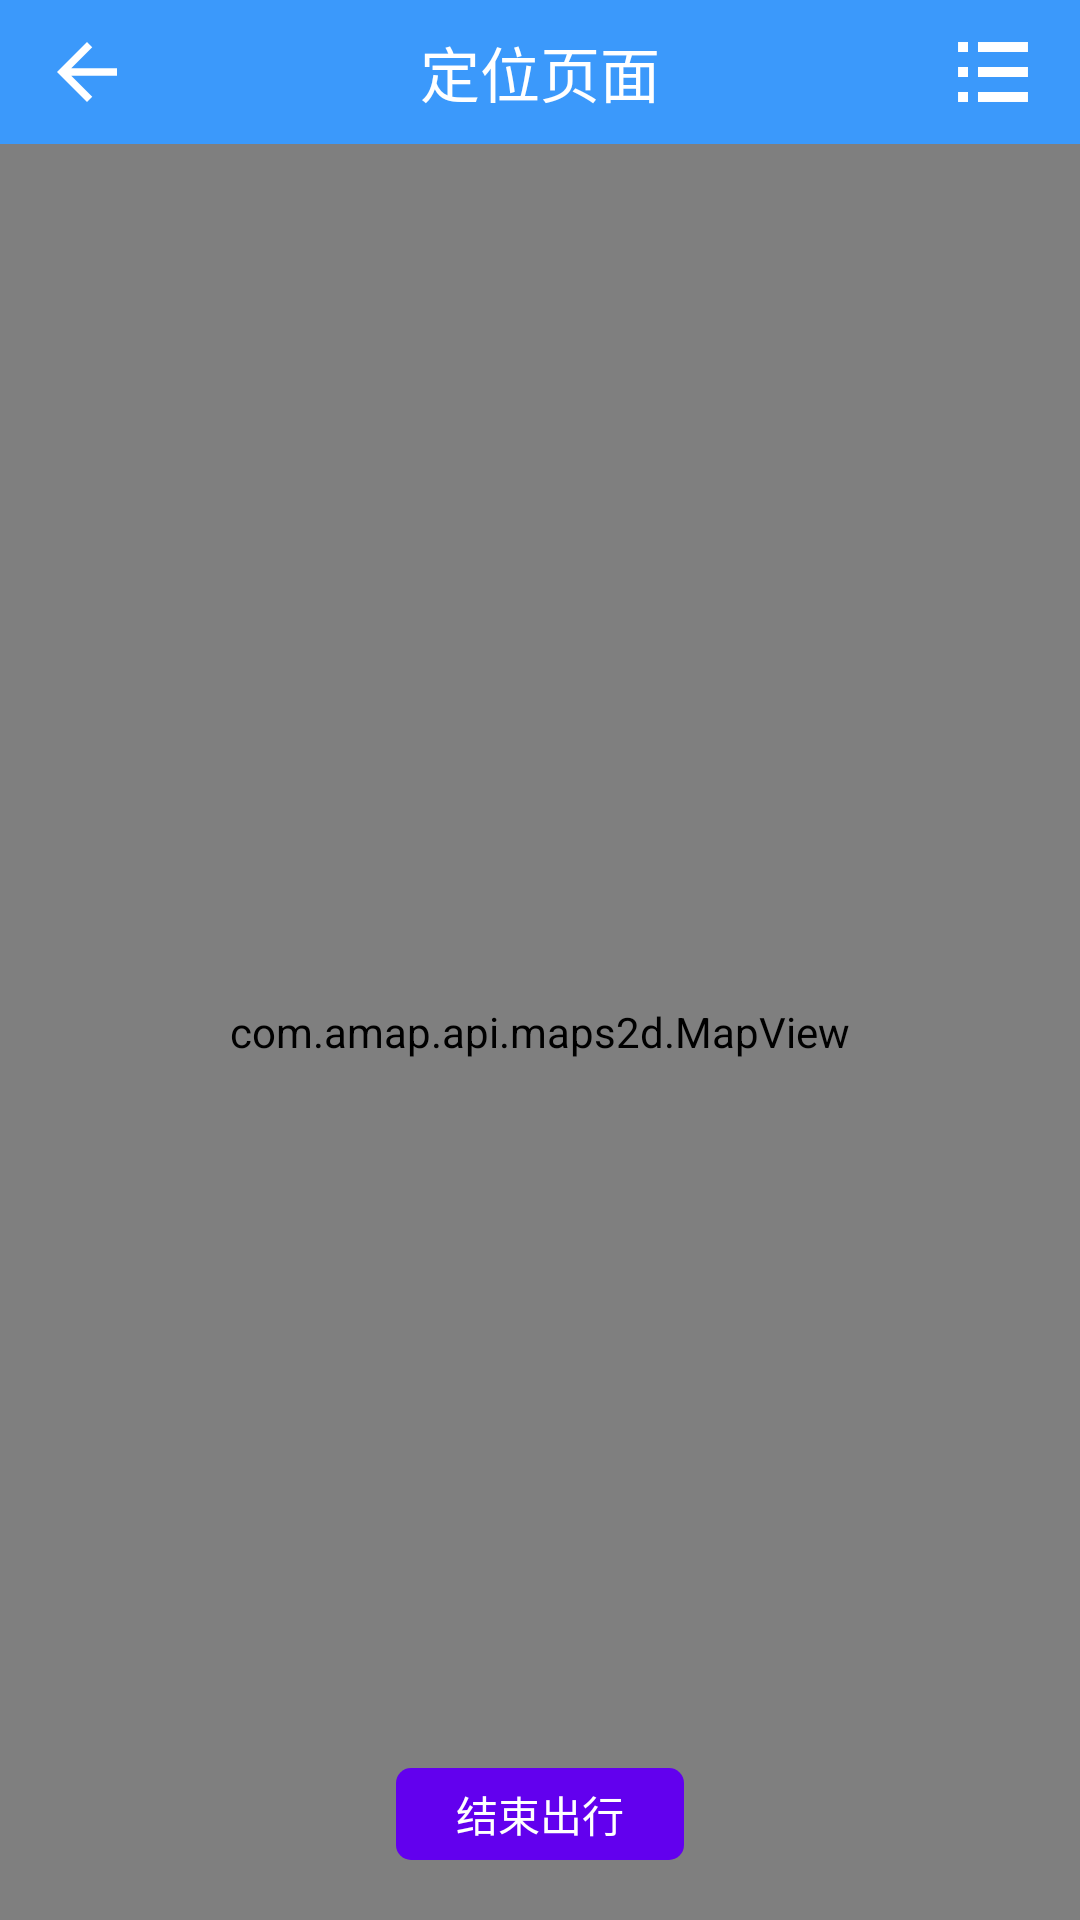

Named icons in this screenshot (1080×1920) and their bounding boxes, (x1, y1, x2, y2):
list: (958, 42, 1028, 102)
